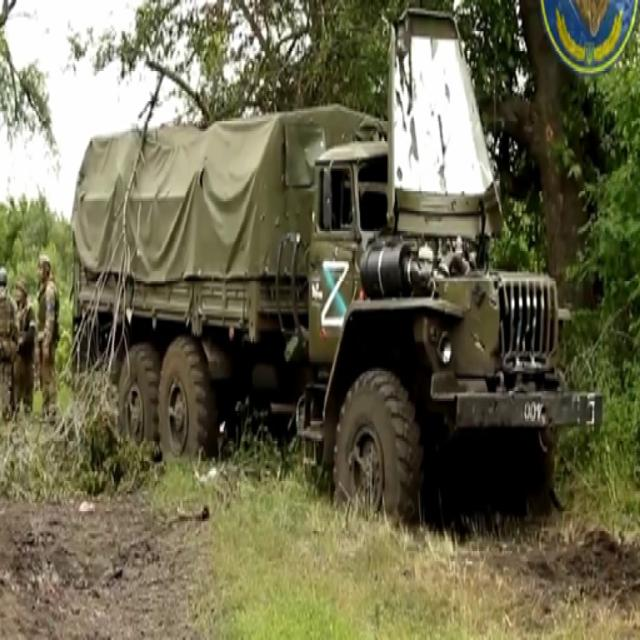TRUCK: (68, 112, 592, 530)
